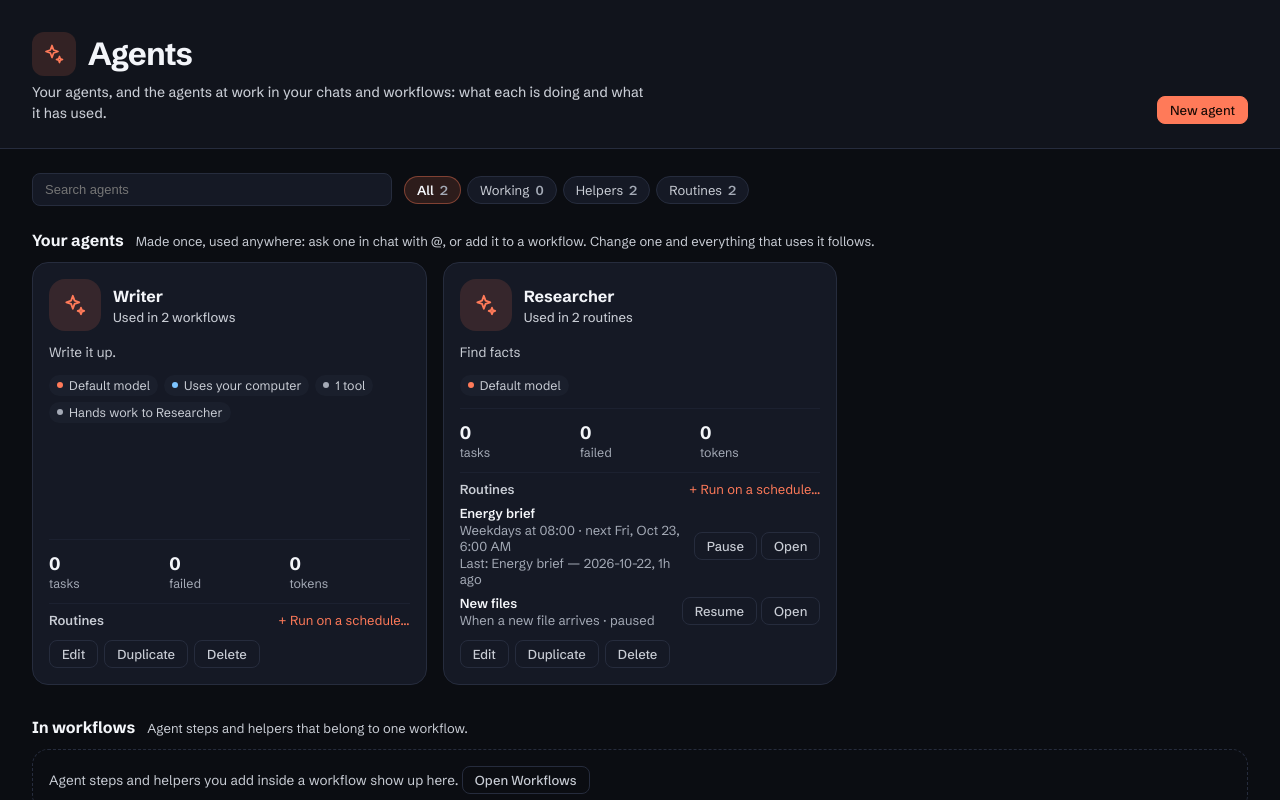
Scenario: Routines › opens the routine form from "Run on a schedule…" under Routines, even on a card with none yet
Check: the buttons read "Edit", "Duplicate", "Delete", in this order, box [49, 640, 98, 668]; [104, 640, 188, 668]; [194, 640, 260, 668]
Check: the text "Routines" below "Hands work to Researcher" is shown, box [49, 612, 104, 628]
Click the button with aria-label "Run Writer on a schedule": point(344, 620) [278, 612, 410, 628]
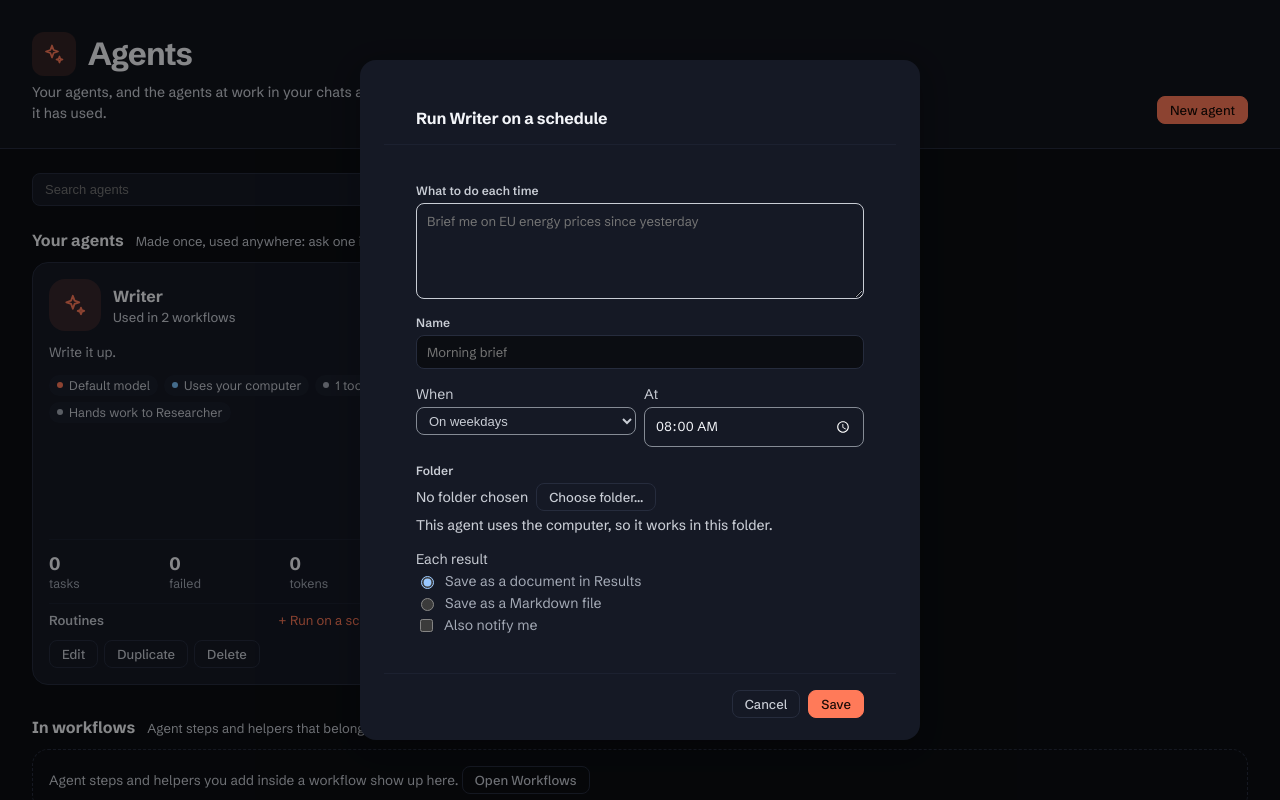
Check: the dialog "Run Writer on a schedule" is shown, box [360, 60, 920, 740]
Click the button "Cancel": point(766, 704) [732, 690, 800, 718]
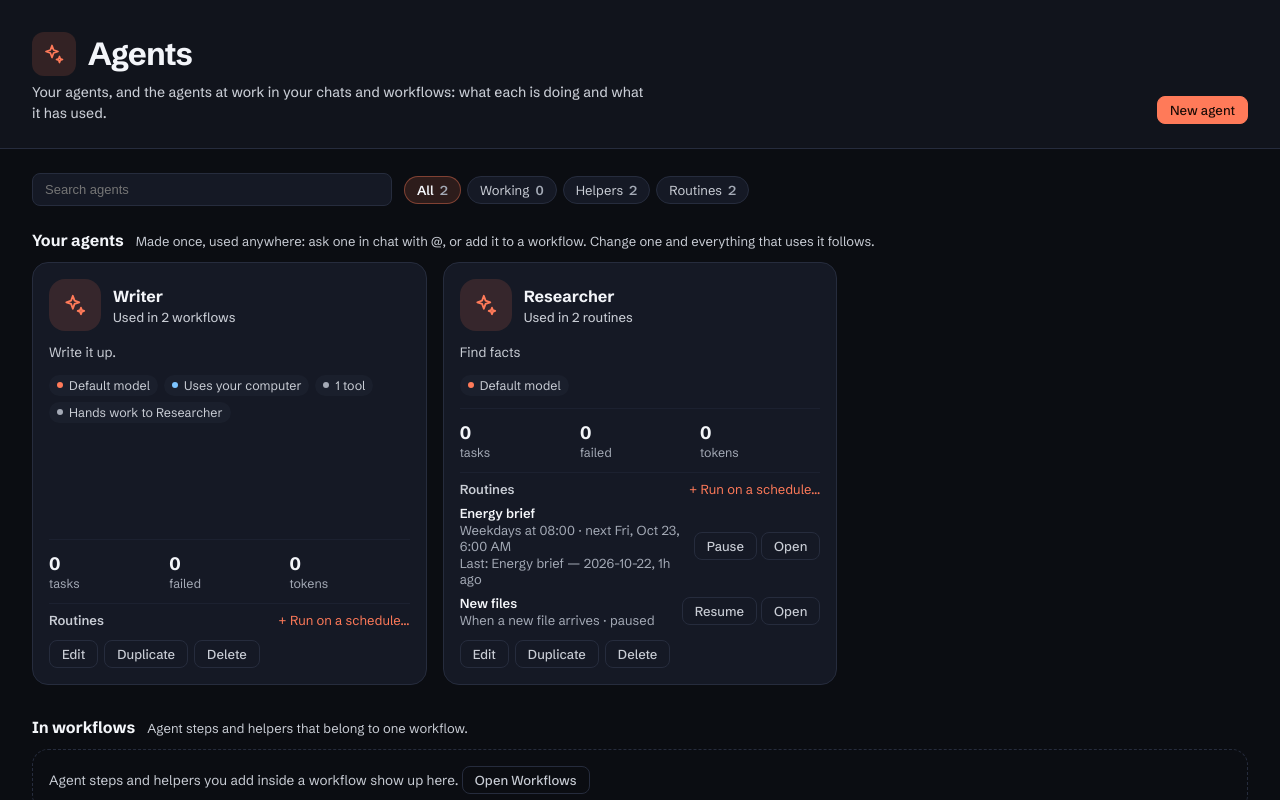
Check: the dialog is gone
